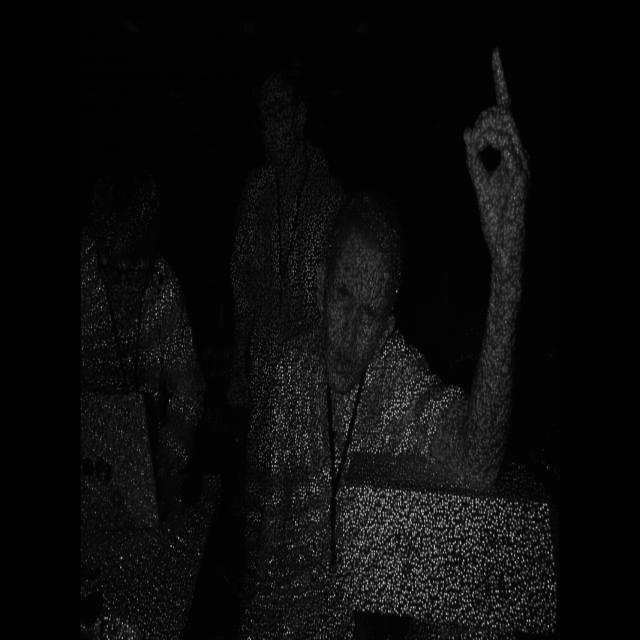D: (452, 40, 543, 278)
